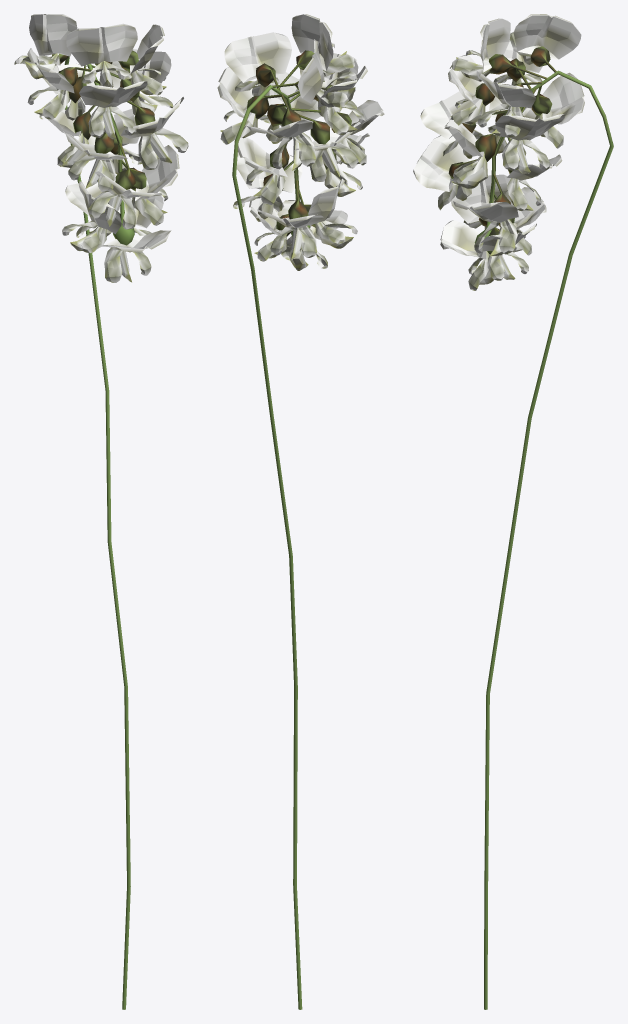
File: flower_06.glb
3 views of the same model, side by side, from view 1: azimuth 30°, elevation 25°; view 2: azimuth 150°, elevation 25°; view 3: azimuth 270°, elevation 25° (orthographic).
Visible parts, largest first — view 1: stem, petal1.015, petal1.016, petal1.010, petal1.002, petal1.009, petal1, petal1.013, petal1.007, petal1.014, petal1.001, petal1.005 (+11 smaller); view 2: stem, petal1.013, petal1.015, petal1.009, petal1.005, petal1.016, petal1.003, petal1.002, petal1.001, petal1.011, petal1.008, petal1 (+8 smaller); view 3: stem, petal1.016, petal1.004, petal1.011, petal1.001, petal1.008, petal1.015, petal1.009, petal1, petal1.013, petal1.002, petal1.010 (+4 smaller).
Boxes of the visible parts, x1=… form: stem: x1=64, y1=56, x2=134, y2=1009; petal1.015: x1=66, y1=23, x2=137, y2=66; petal1.016: x1=29, y1=14, x2=77, y2=56; petal1.010: x1=79, y1=81, x2=147, y2=107; petal1.002: x1=135, y1=145, x2=179, y2=201; petal1.009: x1=109, y1=49, x2=171, y2=88; petal1: x1=101, y1=230, x2=171, y2=252; petal1.013: x1=130, y1=24, x2=164, y2=73; petal1.007: x1=65, y1=179, x2=115, y2=216; petal1.014: x1=27, y1=48, x2=74, y2=93; petal1.001: x1=79, y1=181, x2=121, y2=234; petal1.005: x1=121, y1=97, x2=183, y2=138; stem: x1=232, y1=85, x2=310, y2=1009; petal1.013: x1=224, y1=32, x2=291, y2=82; petal1.015: x1=291, y1=14, x2=333, y2=71; petal1.009: x1=217, y1=67, x2=255, y2=124; petal1.005: x1=258, y1=72, x2=320, y2=121; petal1.016: x1=297, y1=39, x2=324, y2=103; petal1.003: x1=238, y1=137, x2=287, y2=176; petal1.002: x1=236, y1=152, x2=302, y2=192; petal1.001: x1=308, y1=178, x2=344, y2=225; petal1.011: x1=245, y1=119, x2=312, y2=138; petal1.008: x1=348, y1=100, x2=384, y2=134; petal1: x1=277, y1=200, x2=347, y2=239; stem: x1=474, y1=70, x2=613, y2=1009; petal1.016: x1=513, y1=14, x2=581, y2=59; petal1.004: x1=413, y1=135, x2=468, y2=191; petal1.011: x1=542, y1=72, x2=584, y2=124; petal1.001: x1=451, y1=174, x2=513, y2=223; petal1.008: x1=420, y1=91, x2=477, y2=139; petal1.015: x1=480, y1=18, x2=510, y2=72; petal1.009: x1=495, y1=114, x2=564, y2=140; petal1: x1=440, y1=220, x2=486, y2=259; petal1.013: x1=476, y1=71, x2=535, y2=108; petal1.002: x1=453, y1=201, x2=518, y2=222; petal1.010: x1=448, y1=55, x2=484, y2=108.
Size of the model in its own units: 0.0453 by 0.3063 by 0.0571.
